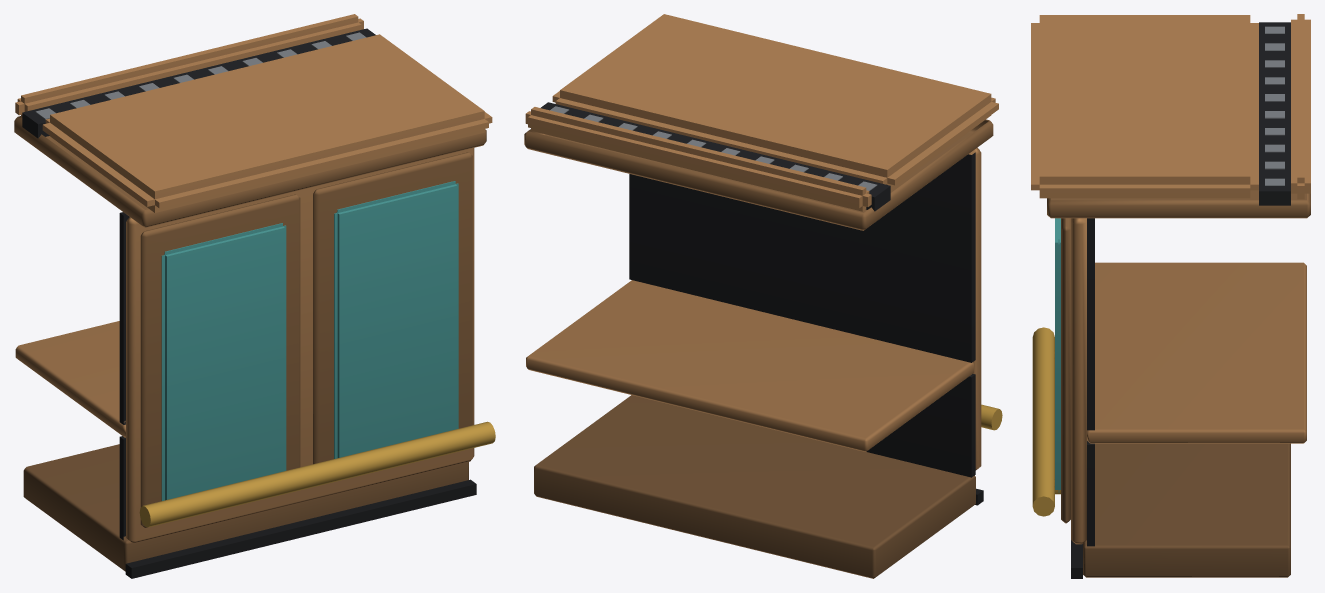
Rendered from SM_Bar_Section_10.glb.
3 renders of one model, left to right at view 1: azimuth 30°, elevation 25°; view 2: azimuth 150°, elevation 25°; view 3: azimuth 270°, elevation 25°, orthographic.
Parts seen in each view (by area): view 1: SM_Bar_Section_10; view 2: SM_Bar_Section_10; view 3: SM_Bar_Section_10.
Part boxes in pixels (<box>): SM_Bar_Section_10: <box>14,14,495,578</box>; SM_Bar_Section_10: <box>524,14,1002,578</box>; SM_Bar_Section_10: <box>1031,14,1310,578</box>.
Bounding box in the file's own units: 1 × 1.1 × 0.7.
Materials: 1 (1 with a texture image).
